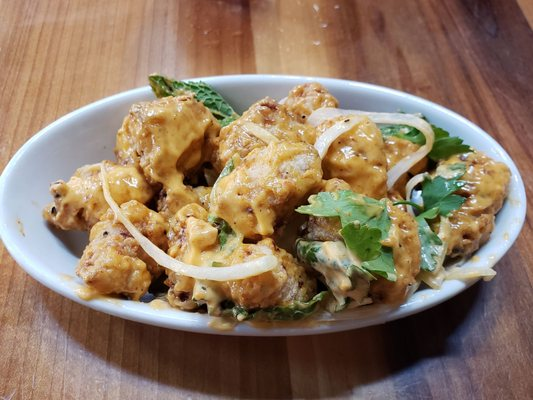curry: (4, 1, 533, 400)
